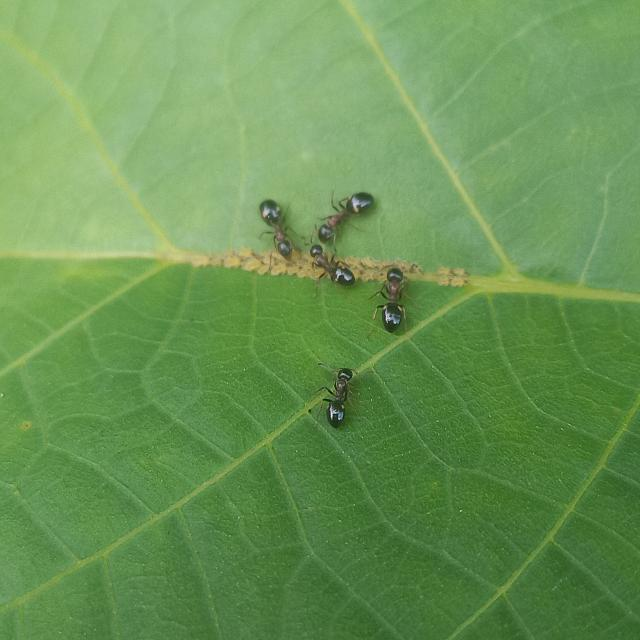Dolichoderus: (366, 256, 418, 344), (308, 183, 379, 244), (314, 354, 366, 430), (252, 188, 302, 260), (306, 234, 364, 290)
